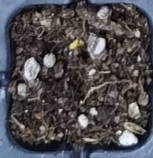pepper seed: (25, 13, 110, 63)
